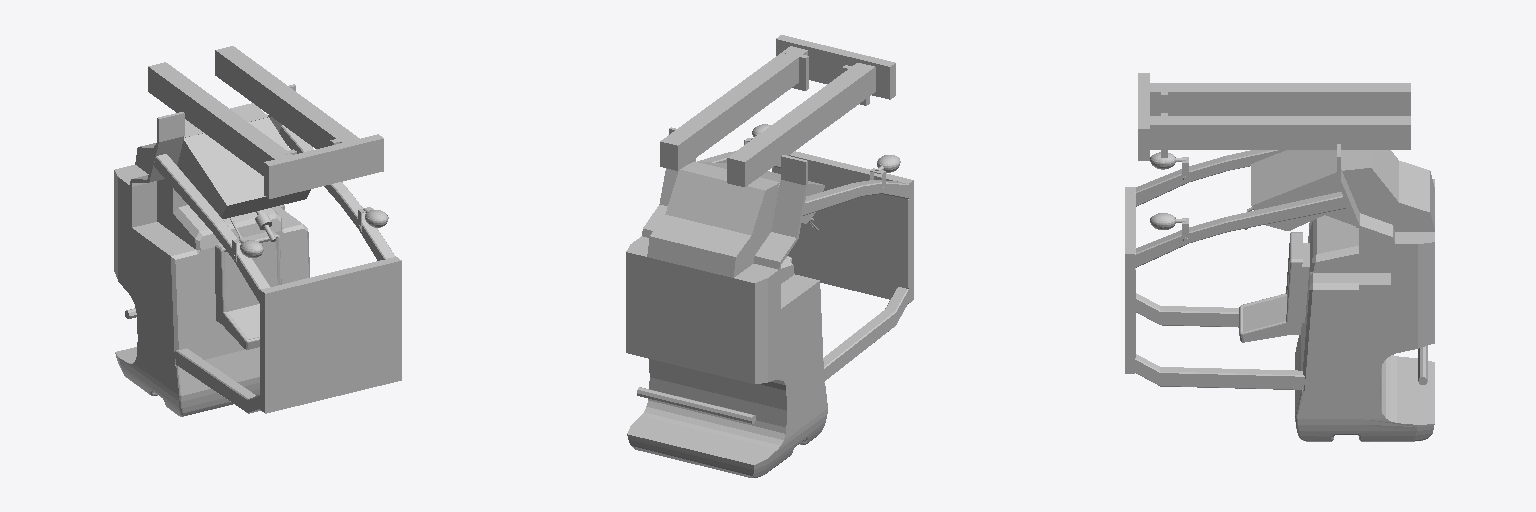
Rendered from forkliftpos.obj.
The picture shows the model from 3 angles: view 1: azimuth 30°, elevation 25°; view 2: azimuth 150°, elevation 25°; view 3: azimuth 270°, elevation 25°; orthographic projection.
Visible parts, largest first — view 1: forklift2.001; view 2: forklift2.001; view 3: forklift2.001.
Boxes of the visible parts, <box> form: forklift2.001: <box>114,46,401,416</box>; forklift2.001: <box>626,35,913,477</box>; forklift2.001: <box>1125,73,1434,441</box>.
Bounding box in the file's own units: 1.58 × 3.25 × 2.94.